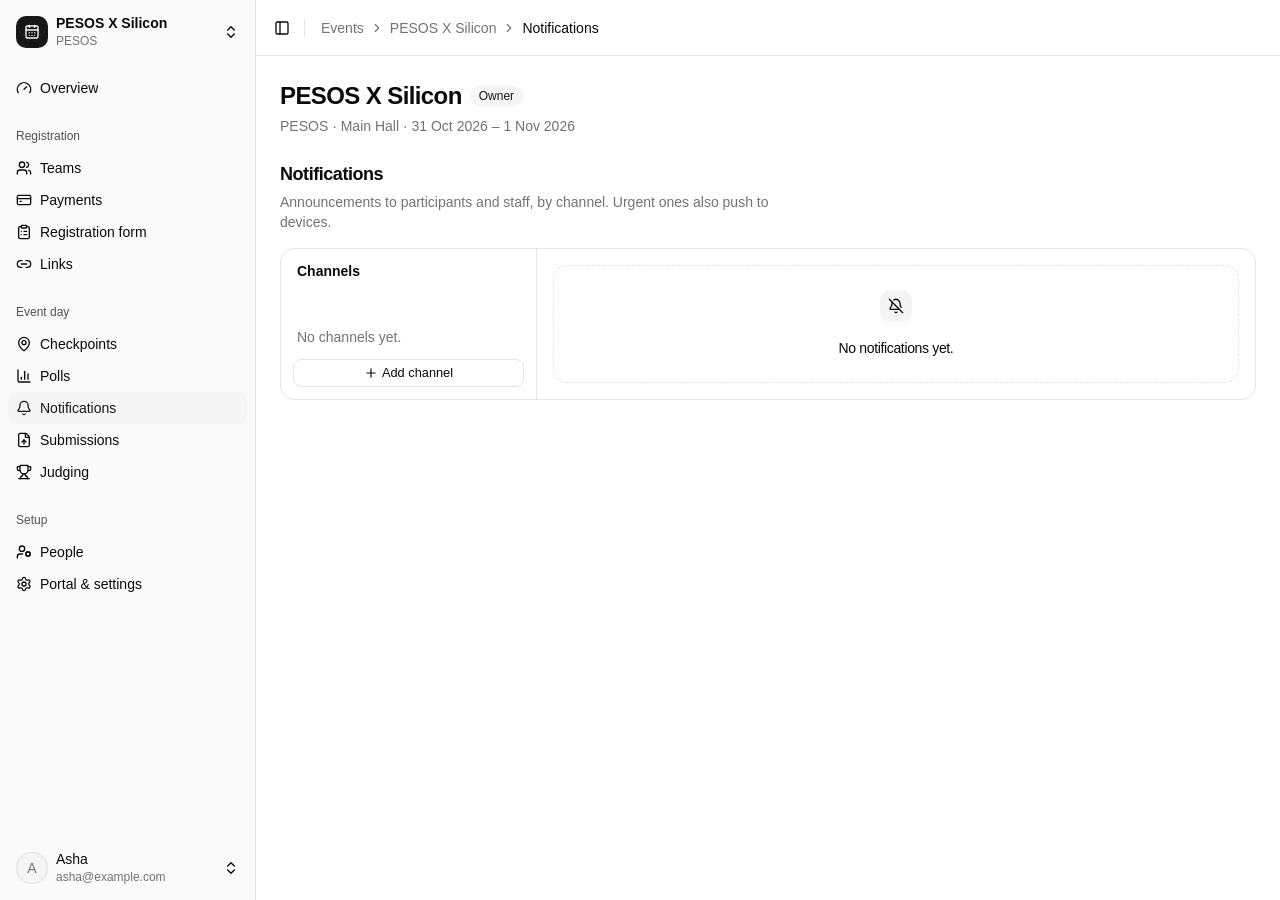
Test case: notifications › admins add channels for any roles from a dialog, and land on the new one
Click the button "Add channel". click: (408, 373)
box: 293,359 -> 524,387
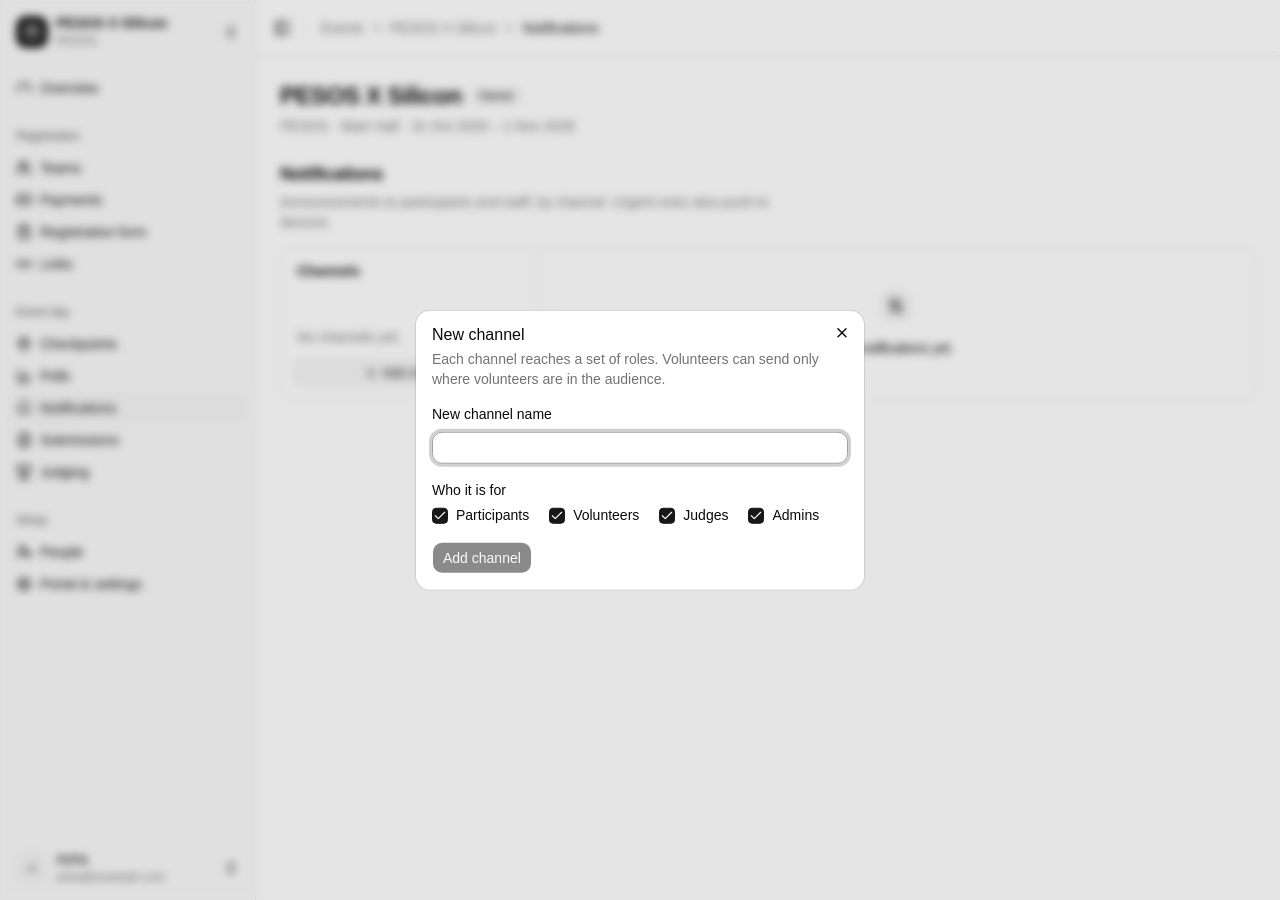
Check: the text "Who it is for" is shown, box 432,480 -> 506,500
Type "Volunteers" into the field labelled "New channel name". click: (640, 448)
box: 432,432 -> 848,464
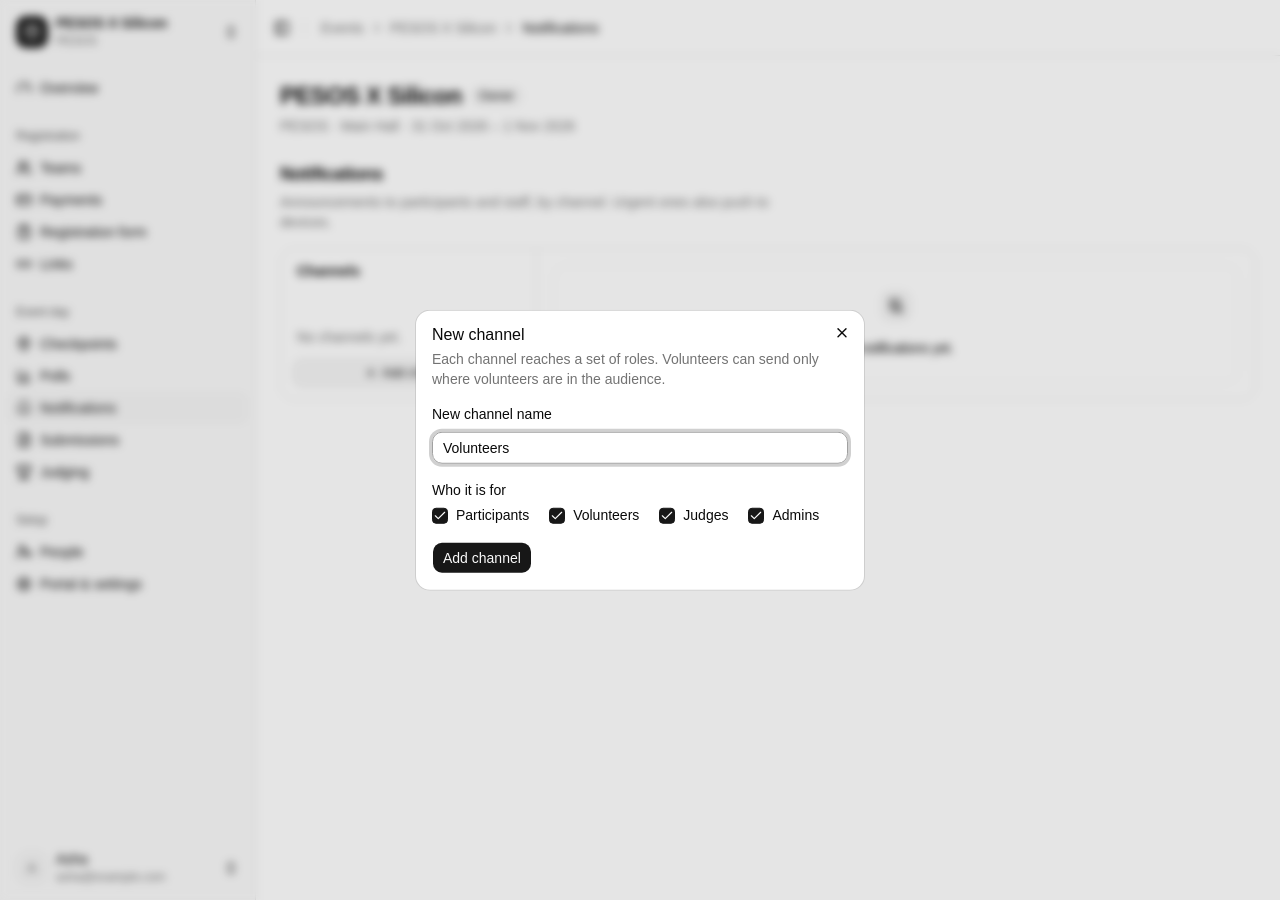
Click the 1st checkbox named "Participants". click: (440, 516)
box: 432,508 -> 448,524
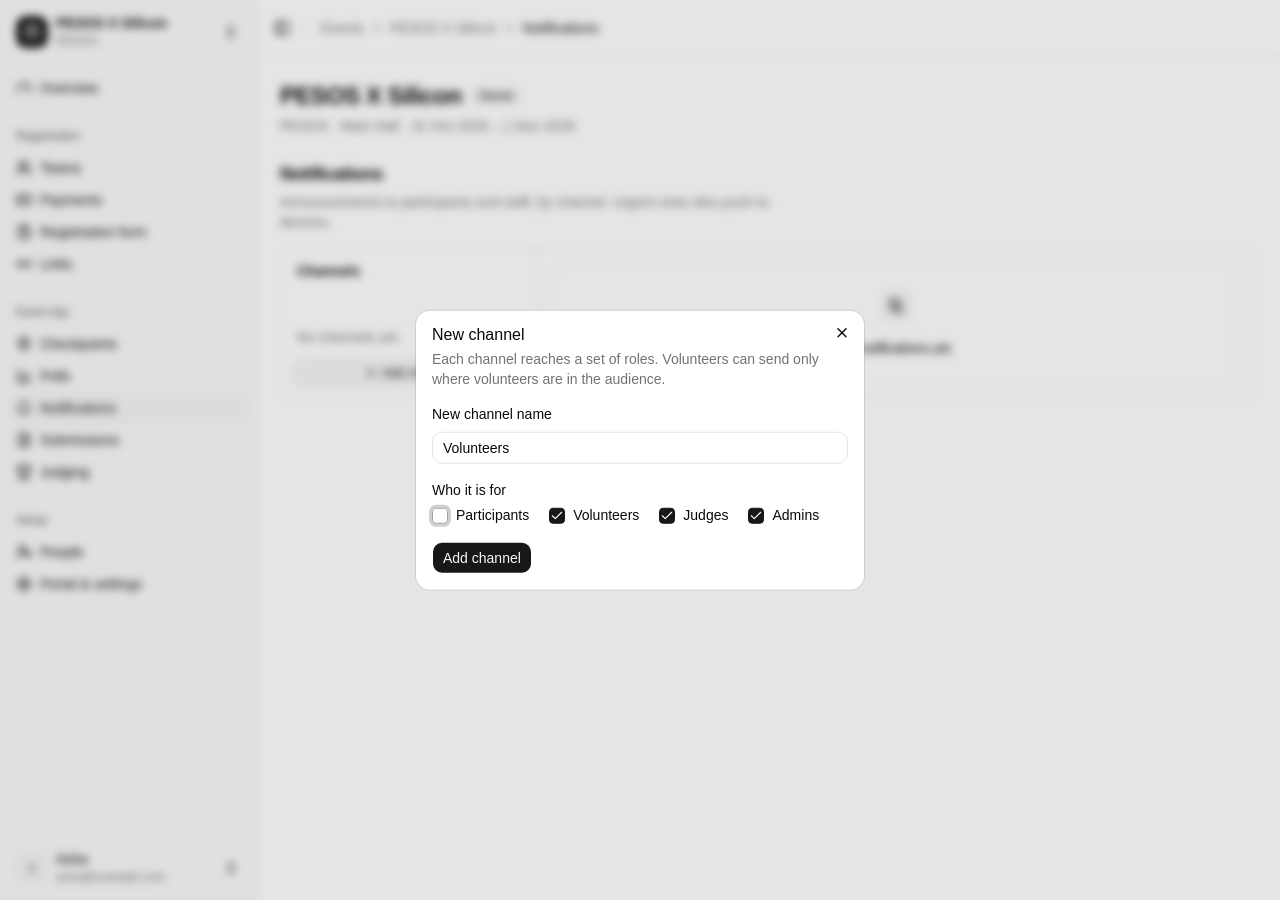
Click the checkbox named "Judges" next to "Judge". click: (667, 516)
box: 659,508 -> 675,524
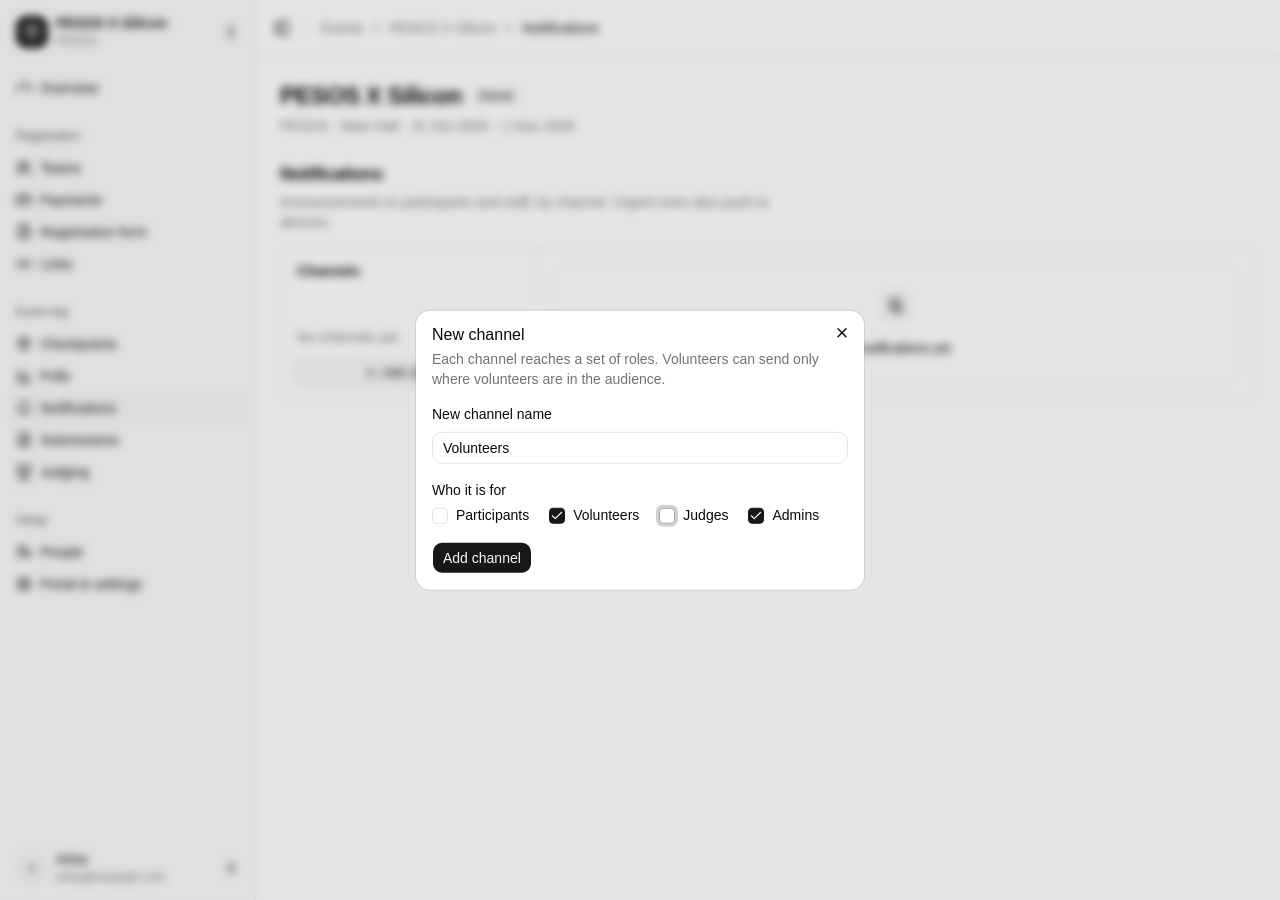
Click the checkbox named "Admins" next to "Admin". click: (756, 516)
box: 748,508 -> 764,524
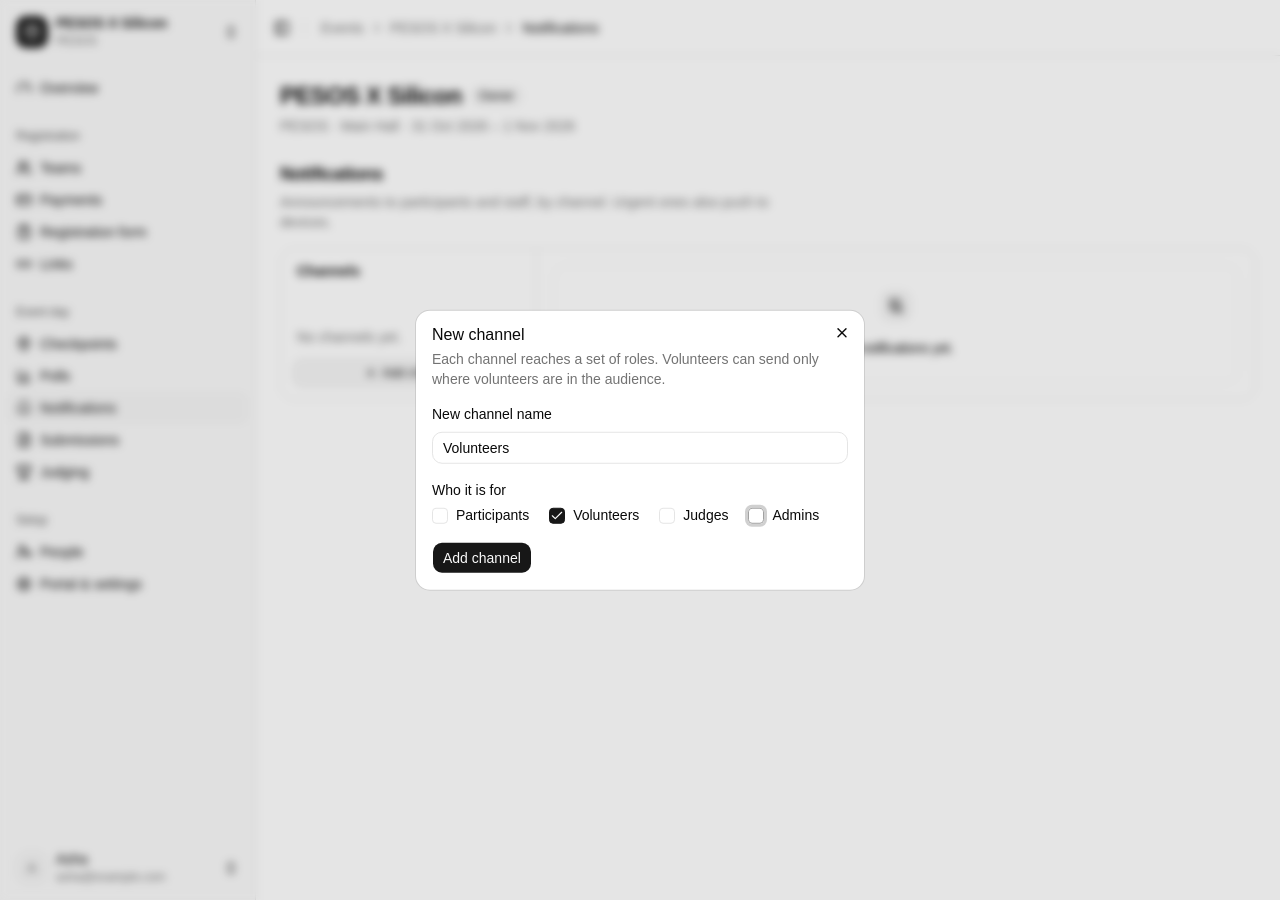
Click the button "Add channel". click: (482, 557)
box: 432,541 -> 532,573
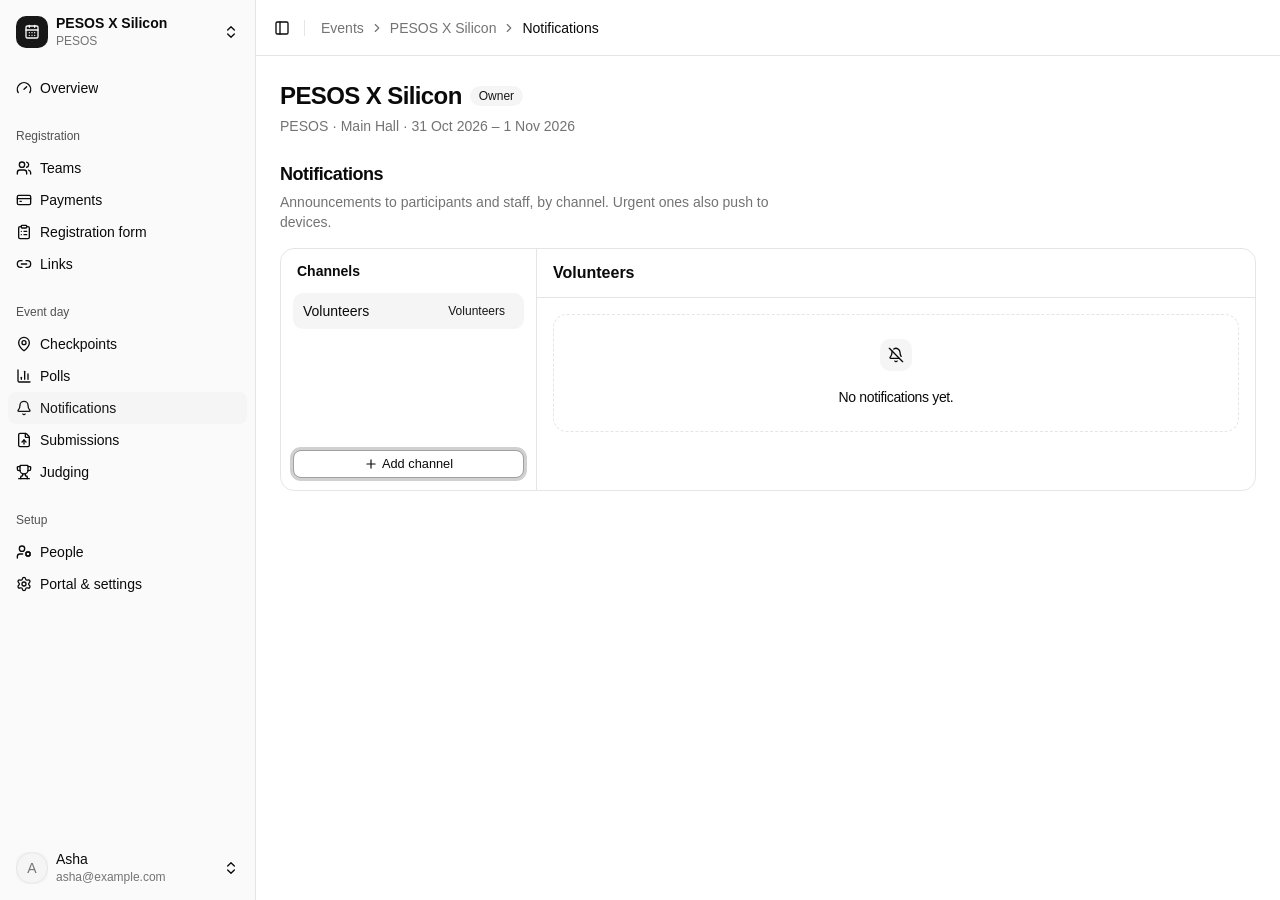
Check: the heading "Volunteers" is shown, box 553,261 -> 634,285
Check: the dialog is gone
